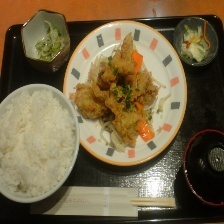rice: (0, 85, 77, 200)
